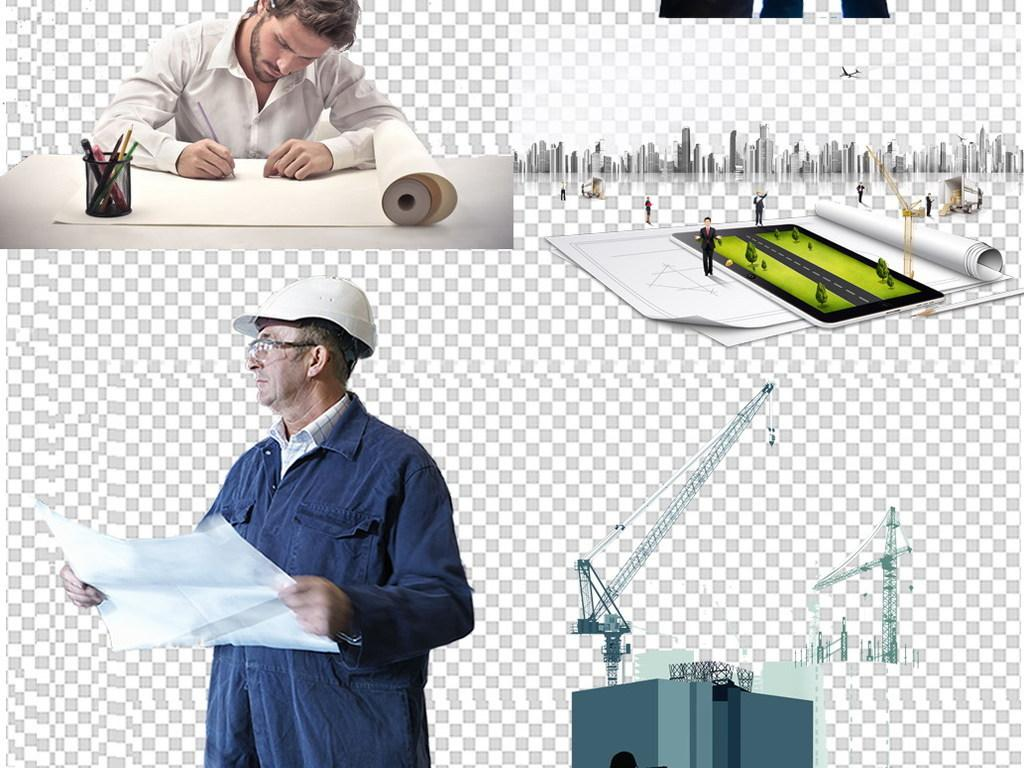helmet: (247, 280, 385, 356)
